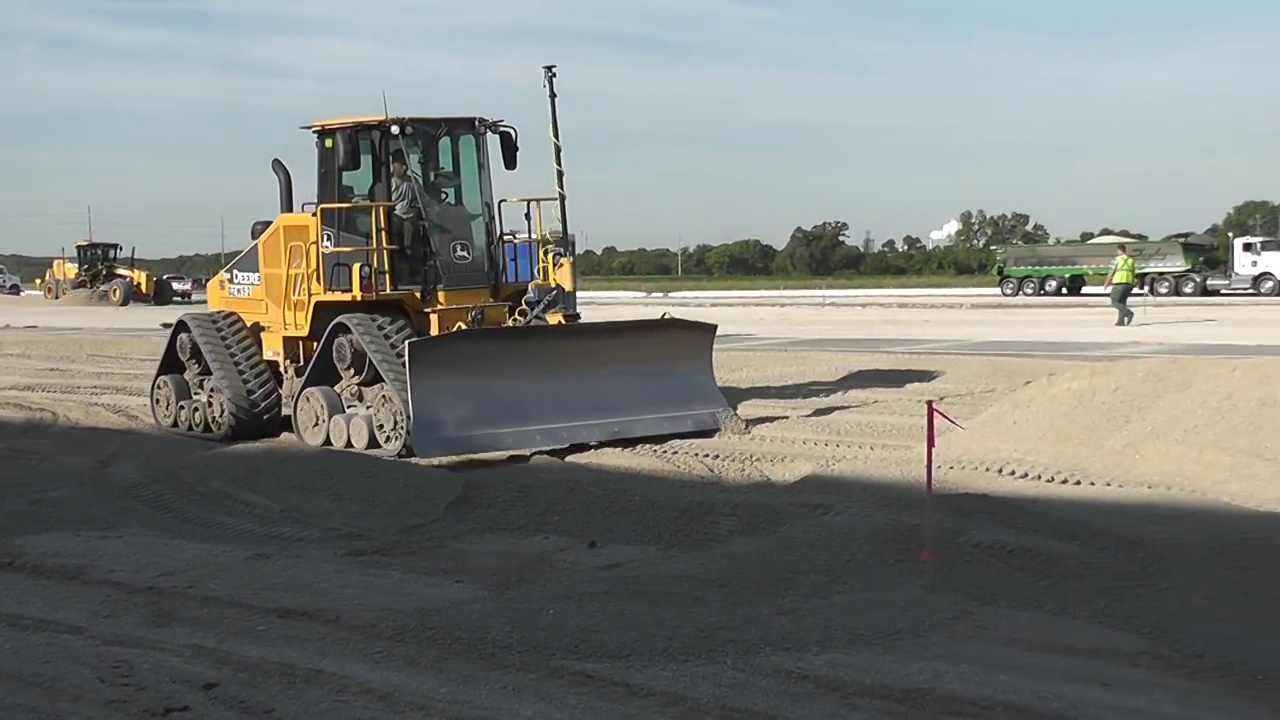bulldozer: (146, 114, 748, 461)
person: (385, 147, 423, 253), (1103, 244, 1144, 329)
truck: (991, 233, 1280, 288)
wheel loader: (36, 239, 156, 306)
